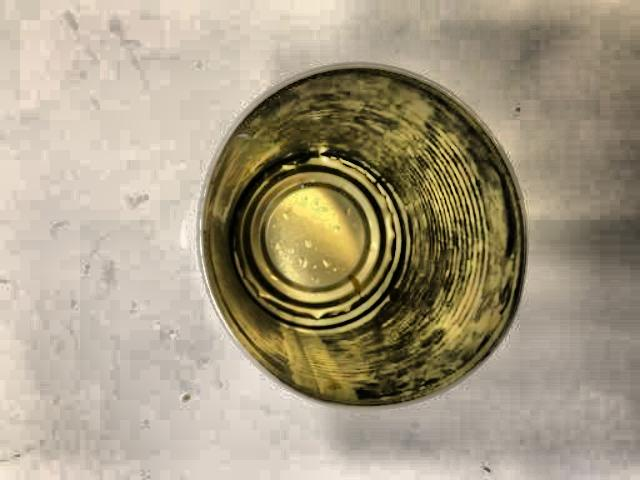Almennt: (166, 47, 528, 429)
